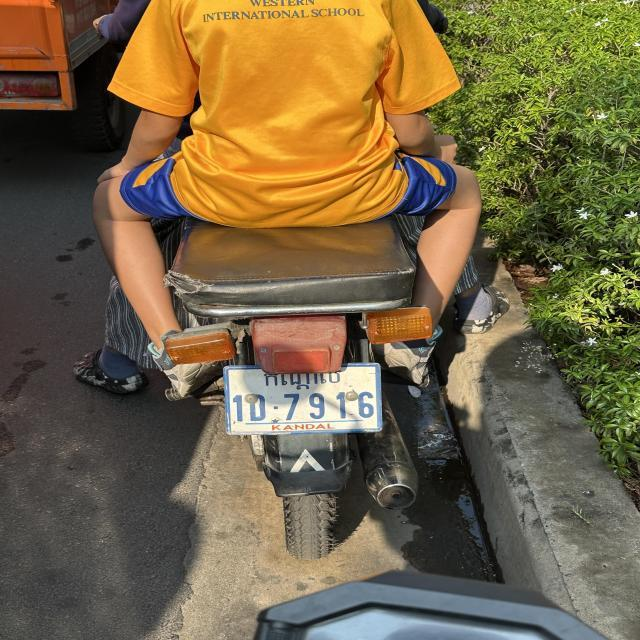Kandal: (261, 369, 345, 391)
